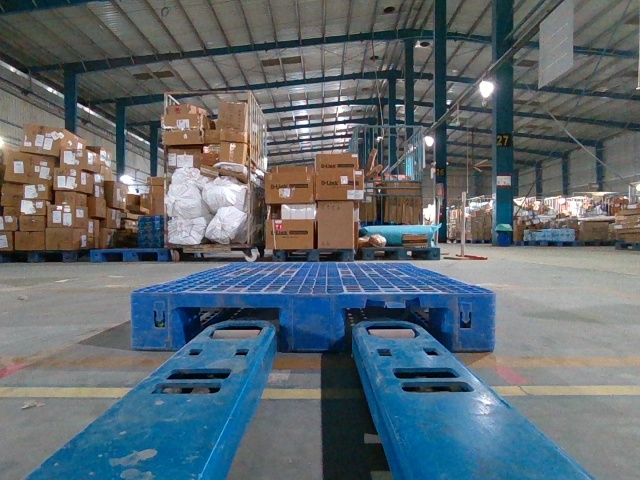block: (279, 296, 349, 354), (126, 290, 185, 348), (442, 289, 492, 353)
front: (130, 291, 494, 350)
hole pallet: (341, 300, 456, 353), (173, 302, 287, 350)
